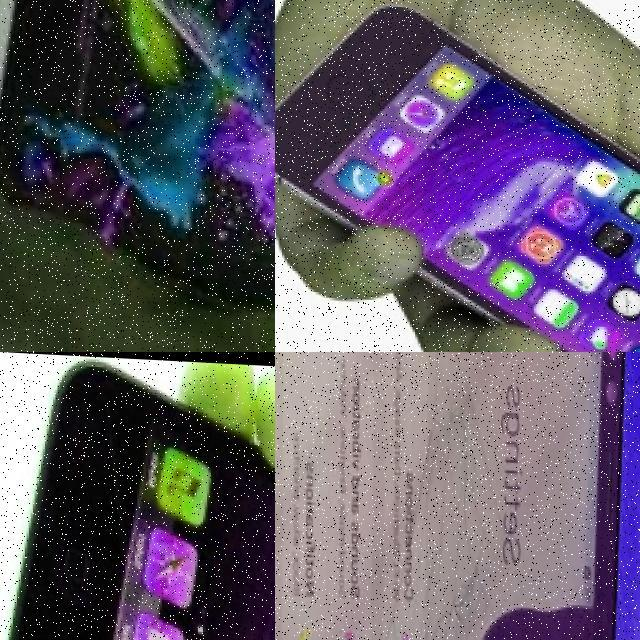dead pixel: (452, 556, 612, 640)
screen crack: (335, 352, 499, 640)
